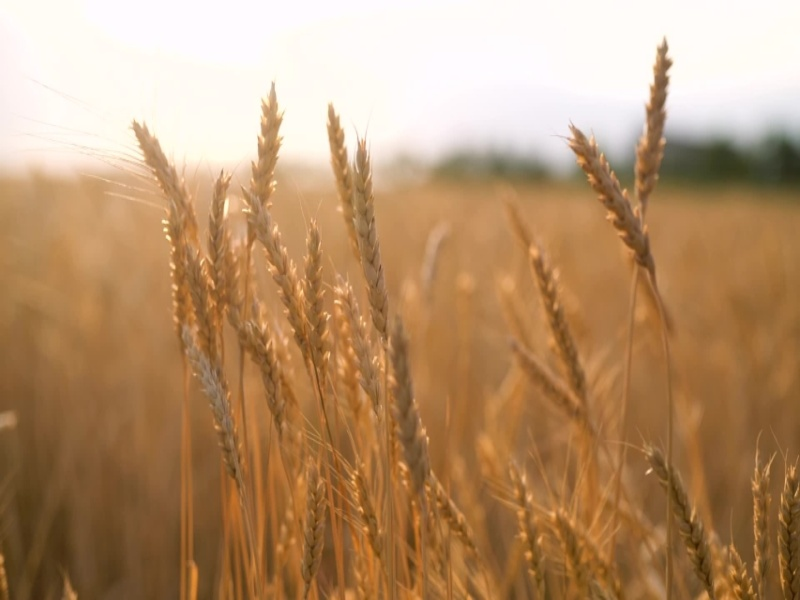wheat: (123, 55, 366, 440), (314, 92, 480, 559), (141, 315, 336, 589), (550, 30, 685, 324), (478, 189, 604, 412), (490, 457, 619, 594), (635, 431, 736, 593), (740, 432, 798, 598)
